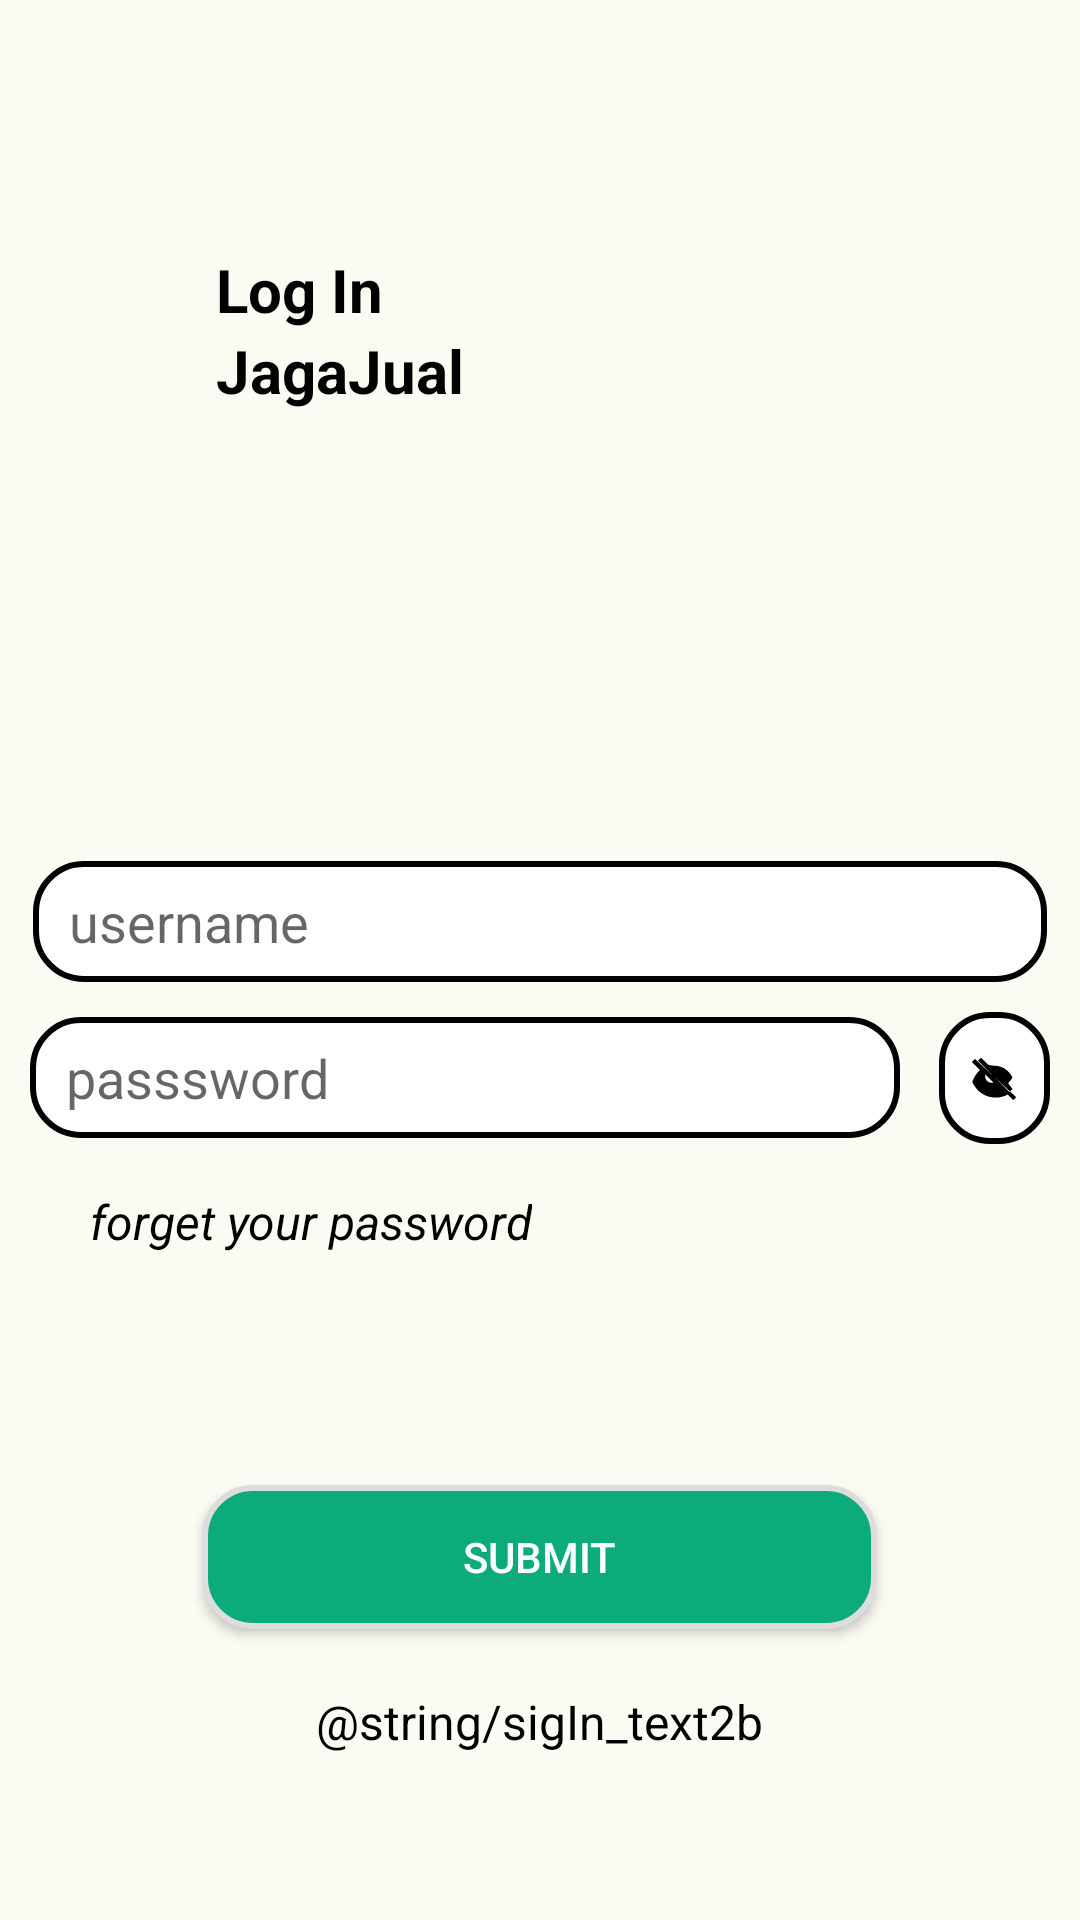

Icon bounding boxes for this 1080x1920 phone screenshot, format (x1, y1, x2, y2):
Toggle Password Visibility: (939, 1012, 1050, 1144)
